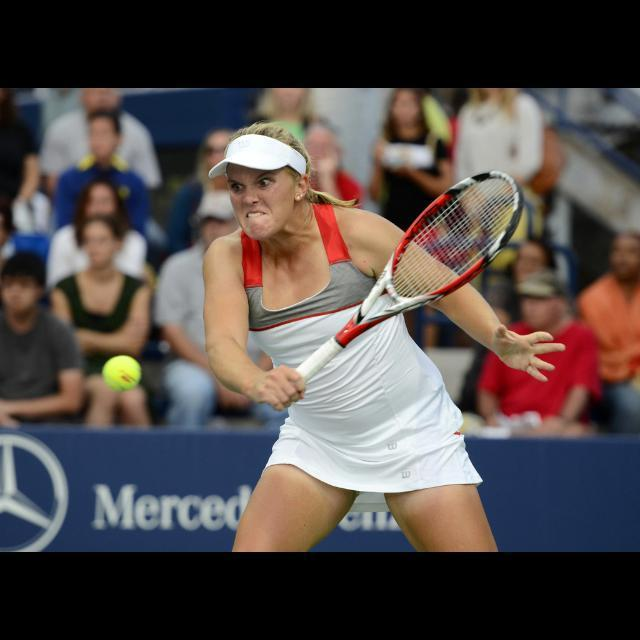tennis-ball: (101, 354, 143, 390)
